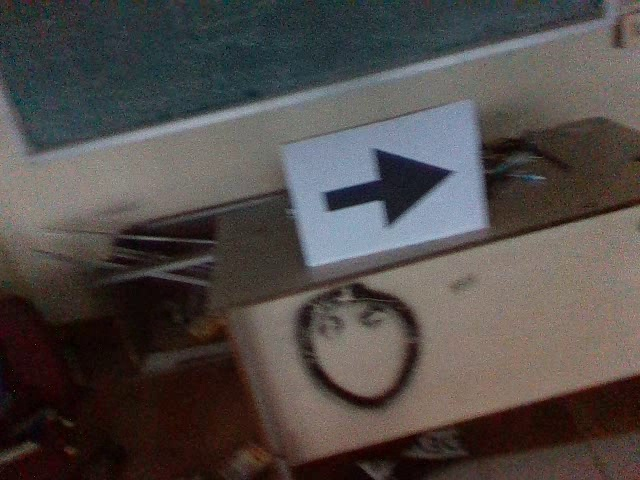Right: (315, 144, 459, 233)
